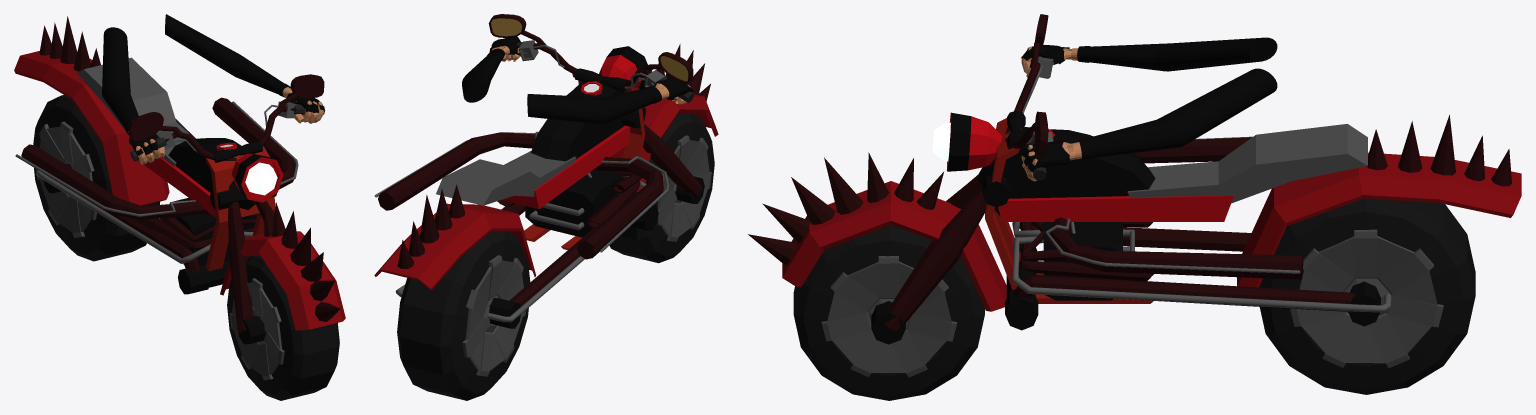
The model's file is байк с руками.fbx.
The picture shows the model from 3 angles, left to right: view 1: azimuth 30°, elevation 25°; view 2: azimuth 150°, elevation 25°; view 3: azimuth 270°, elevation 25°; orthographic projection. The views are drawn at different scales.
Visible parts, largest first — view 1: Cylinder.016, Cylinder.015, Окружность.004, Cylinder.012, Cylinder.008, Cylinder.014, Цилиндр.001, Plane, Цилиндр.020, Cone, Plane.002, Cylinder (+18 smaller); view 2: Cylinder.012, Cylinder.008, Окружность.004, Cylinder.015, Цилиндр.001, Plane, Cylinder.016, Plane.001, Cube, Цилиндр.020, Cube.001, Cone.001 (+19 smaller); view 3: Cylinder.012, Цилиндр.001, Cylinder.016, Окружность.004, Cylinder.015, Plane, Цилиндр.020, Cylinder.014, Cylinder.008, Cylinder.004, Plane.001, Cube.001 (+17 smaller).
Boxes of the visible parts, left/top/right/bottom form: Cylinder.016: left=227, top=255, right=339, bottom=400; Cylinder.015: left=14, top=51, right=169, bottom=205; Окружность.004: left=102, top=14, right=323, bottom=164; Cylinder.012: left=33, top=95, right=160, bottom=261; Cylinder.008: left=21, top=97, right=295, bottom=219; Cylinder.014: left=220, top=231, right=345, bottom=330; Цилиндр.001: left=36, top=121, right=96, bottom=237; Plane: left=77, top=57, right=195, bottom=166; Цилиндр.020: left=229, top=278, right=284, bottom=380; Cone: left=264, top=202, right=340, bottom=321; Plane.002: left=205, top=146, right=275, bottom=271; Cylinder: left=228, top=200, right=274, bottom=333; Cylinder.012: left=397, top=231, right=530, bottom=400; Cylinder.008: left=378, top=132, right=663, bottom=259; Окружность.004: left=462, top=45, right=692, bottom=124; Cylinder.015: left=374, top=203, right=535, bottom=290; Цилиндр.001: left=462, top=255, right=526, bottom=376; Plane: left=436, top=150, right=576, bottom=205; Cylinder.016: left=609, top=113, right=714, bottom=263; Plane.001: left=531, top=81, right=624, bottom=161; Cube: left=525, top=170, right=623, bottom=237; Цилиндр.020: left=656, top=135, right=711, bottom=241; Cube.001: left=501, top=125, right=630, bottom=209; Cone.001: left=397, top=184, right=464, bottom=268; Cylinder.012: left=1259, top=198, right=1475, bottom=394; Цилиндр.001: left=1290, top=229, right=1443, bottom=368; Cylinder.016: left=793, top=225, right=984, bottom=400; Окружность.004: left=1021, top=37, right=1277, bottom=181; Cylinder.015: left=1237, top=152, right=1521, bottom=287; Plane: left=1127, top=124, right=1367, bottom=203; Цилиндр.020: left=821, top=256, right=956, bottom=377; Cylinder.014: left=782, top=181, right=1006, bottom=311; Cylinder.008: left=1050, top=137, right=1303, bottom=279; Cylinder.004: left=1014, top=226, right=1356, bottom=311; Plane.001: left=976, top=127, right=1155, bottom=216; Cube.001: left=998, top=195, right=1233, bottom=221.
Size of the model in its own units: 179 by 205 by 426.
